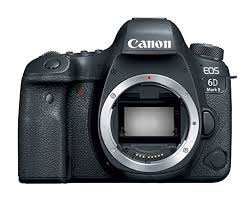camera: (18, 18, 231, 184)
